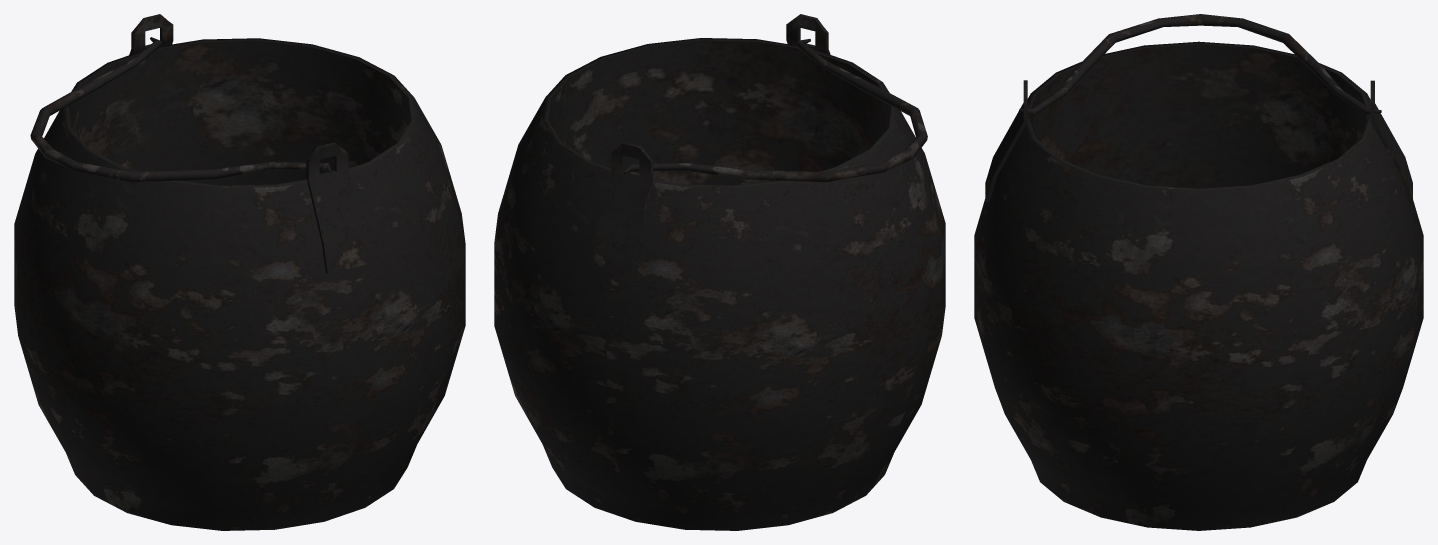
The picture shows the model from 3 angles, left to right: view 1: azimuth 30°, elevation 25°; view 2: azimuth 150°, elevation 25°; view 3: azimuth 270°, elevation 25°; orthographic projection.
Parts seen in each view (by area): view 1: Pot; view 2: Pot; view 3: Pot.
Part boxes in pixels (left/top/right/bottom): Pot: left=14, top=14, right=465, bottom=530; Pot: left=494, top=14, right=945, bottom=530; Pot: left=974, top=14, right=1423, bottom=530.
Bounding box in the file's own units: 2 × 1.85 × 2.
1 material, 1 textured.
